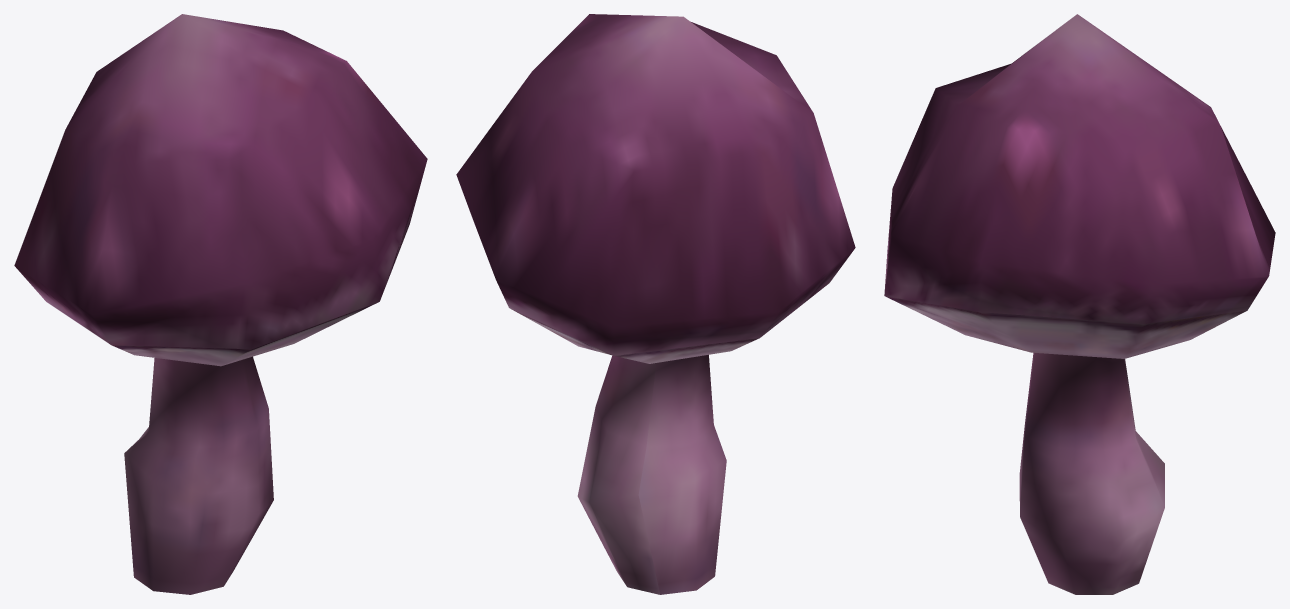
Rendered from environment_Tree_mogu_002_c.FBX.
The picture shows the model from 3 angles, left to right: view 1: azimuth 30°, elevation 25°; view 2: azimuth 150°, elevation 25°; view 3: azimuth 270°, elevation 25°; orthographic projection. The views are drawn at different scales.
Parts seen in each view (by area): view 1: environment_Tree_mogu_002_c; view 2: environment_Tree_mogu_002_c; view 3: environment_Tree_mogu_002_c.
Boxes of the visible parts, x1,y1,x2,y2 form: environment_Tree_mogu_002_c: (14,14,427,594); environment_Tree_mogu_002_c: (456,14,855,594); environment_Tree_mogu_002_c: (884,14,1275,594).
Bounding box in the file's own units: 14.66 × 24.12 × 15.35.
Materials: 1 (1 with a texture image).
